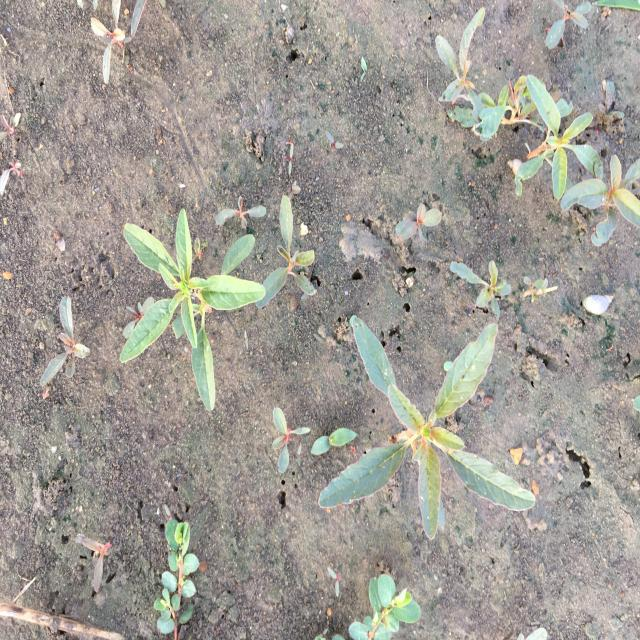SpottedSpurge: (319, 572, 423, 638), (150, 518, 200, 638)
Waterhemp: (317, 314, 537, 540), (117, 206, 267, 414), (476, 71, 604, 200), (560, 148, 638, 248), (432, 5, 490, 131), (258, 192, 318, 306), (37, 292, 93, 389), (87, 2, 136, 86), (448, 258, 514, 316), (270, 405, 312, 475)
